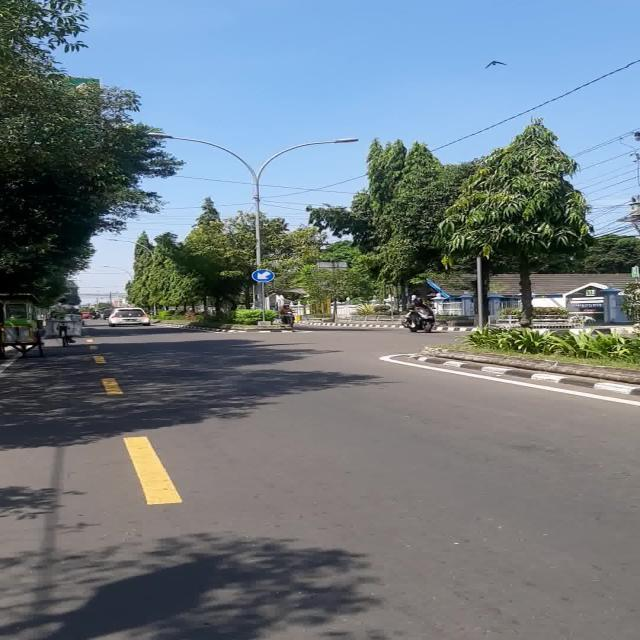Lajur Kiri: (251, 269, 275, 283)
